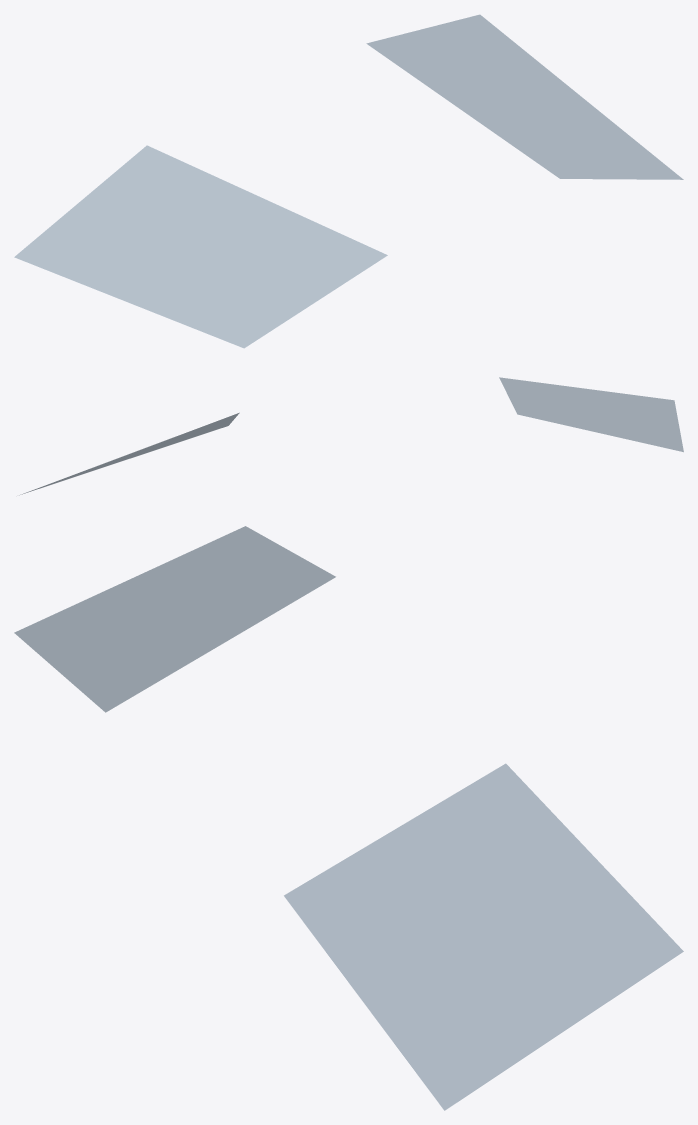
Rendered from dorsal-intercuneiform-ligaments-l.glb.
3 renders of one model, top to bottom at view 1: azimuth 30°, elevation 25°; view 2: azimuth 150°, elevation 25°; view 3: azimuth 270°, elevation 25°, orthographic. The views are drawn at different scales.
Visible parts, largest first — view 1: Dorsal intercuneiform ligaments.l; view 2: Dorsal intercuneiform ligaments.l; view 3: Dorsal intercuneiform ligaments.l.
Boxes of the visible parts, x1,y1,x2,y2 form: Dorsal intercuneiform ligaments.l: (14,14,683,348); Dorsal intercuneiform ligaments.l: (19,377,683,495); Dorsal intercuneiform ligaments.l: (14,526,683,1110).
Size of the model in its own units: 0.022 by 0.00593 by 0.0157.
